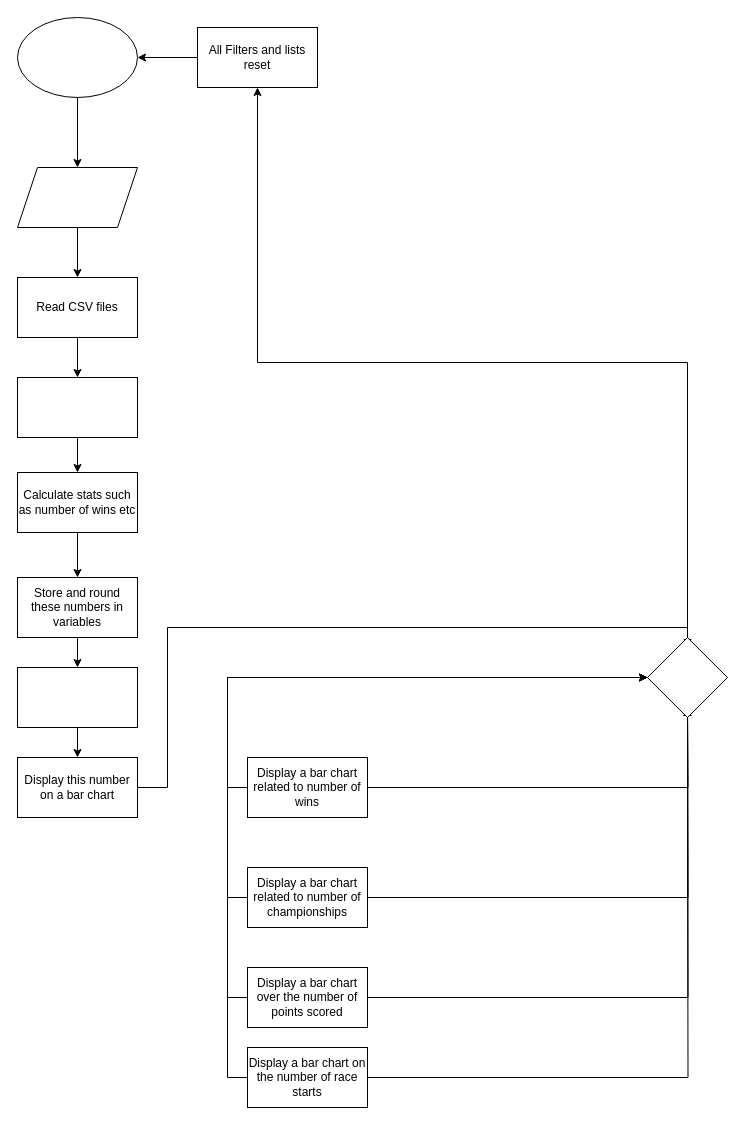
Some shapes in this 745 by 1125 pixel diagram are drawn without their labels. The shapes that lost their labels are listed below. From the top down, each one's centre as x and y in pixels, then its label:
At point (77, 57): "RP FX".
At point (77, 197): "Driver Selection".
At point (77, 407): "filter the csv files to contain info related to selected driver".
At point (77, 697): "Use the RP formula to calculate the drivers score".
At point (687, 677): "User resets or selects a filter".
